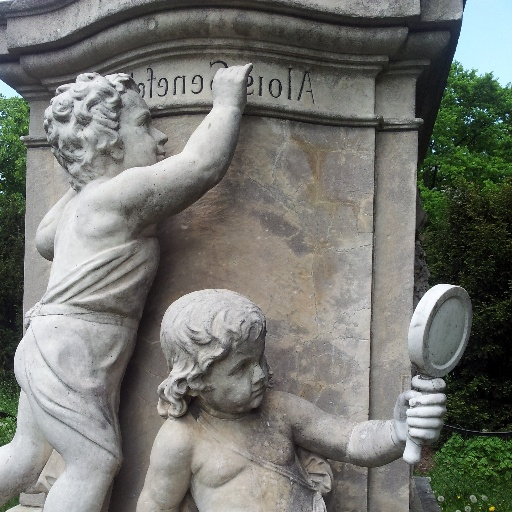hand: (396, 386, 461, 453), (212, 61, 254, 111)
